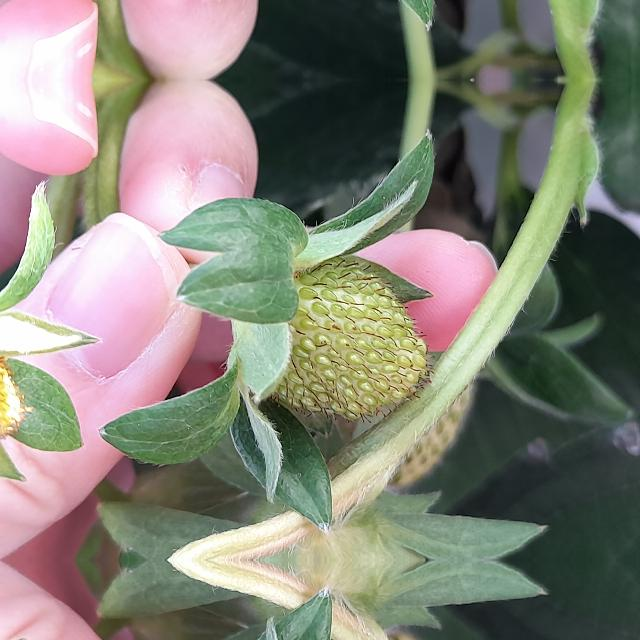Health_25: (259, 260, 435, 422)
